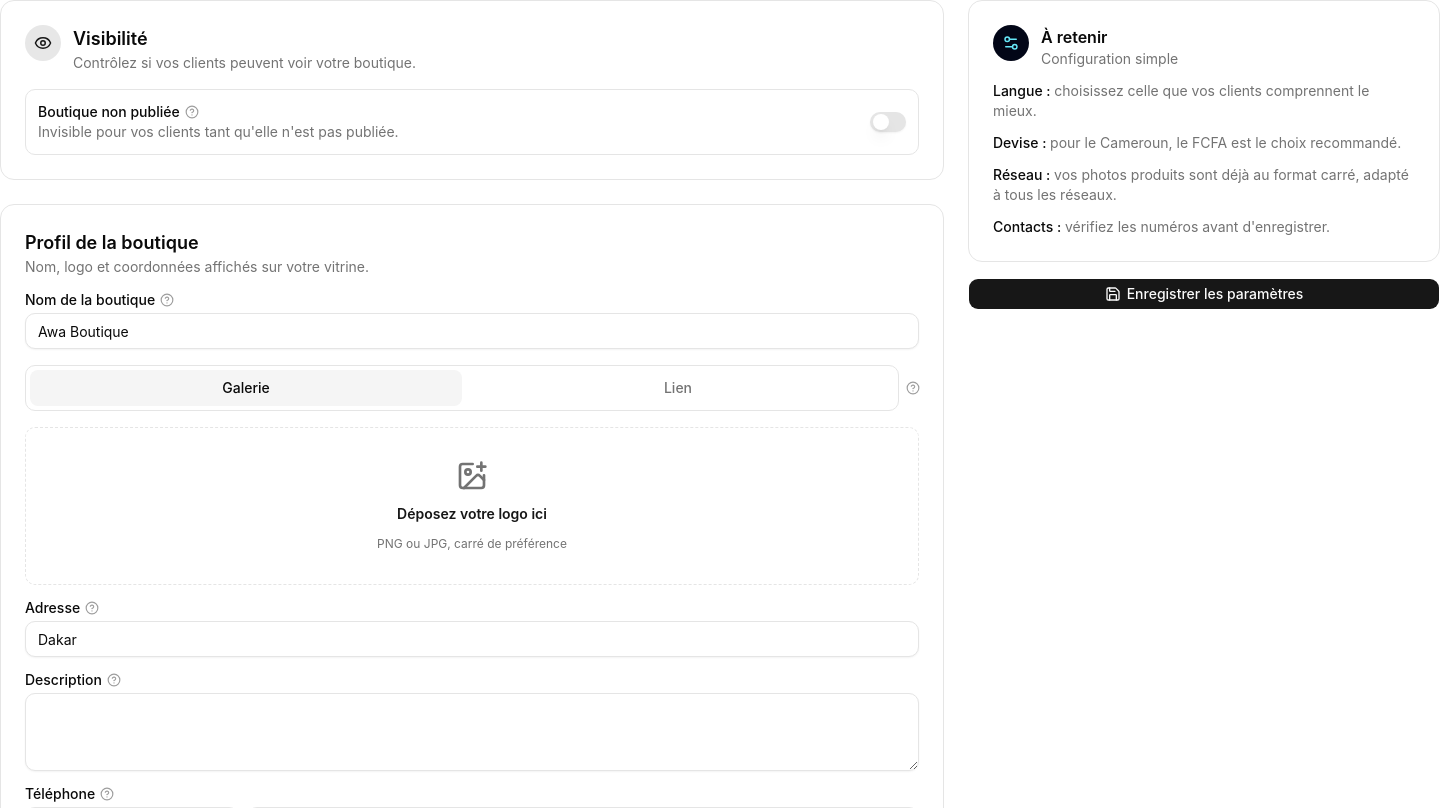
Test: ShopSettingsForm › still confirms the save when logging the activity fails — the main write already succeeded
This screenshot has width=1452, height=808.
Expected: the field labelled "Nom de la boutique" holds "Awa Boutique", [25,313,919,349]
Click the button "Enregistrer les paramètres": [1204, 294] box [968,278,1440,310]
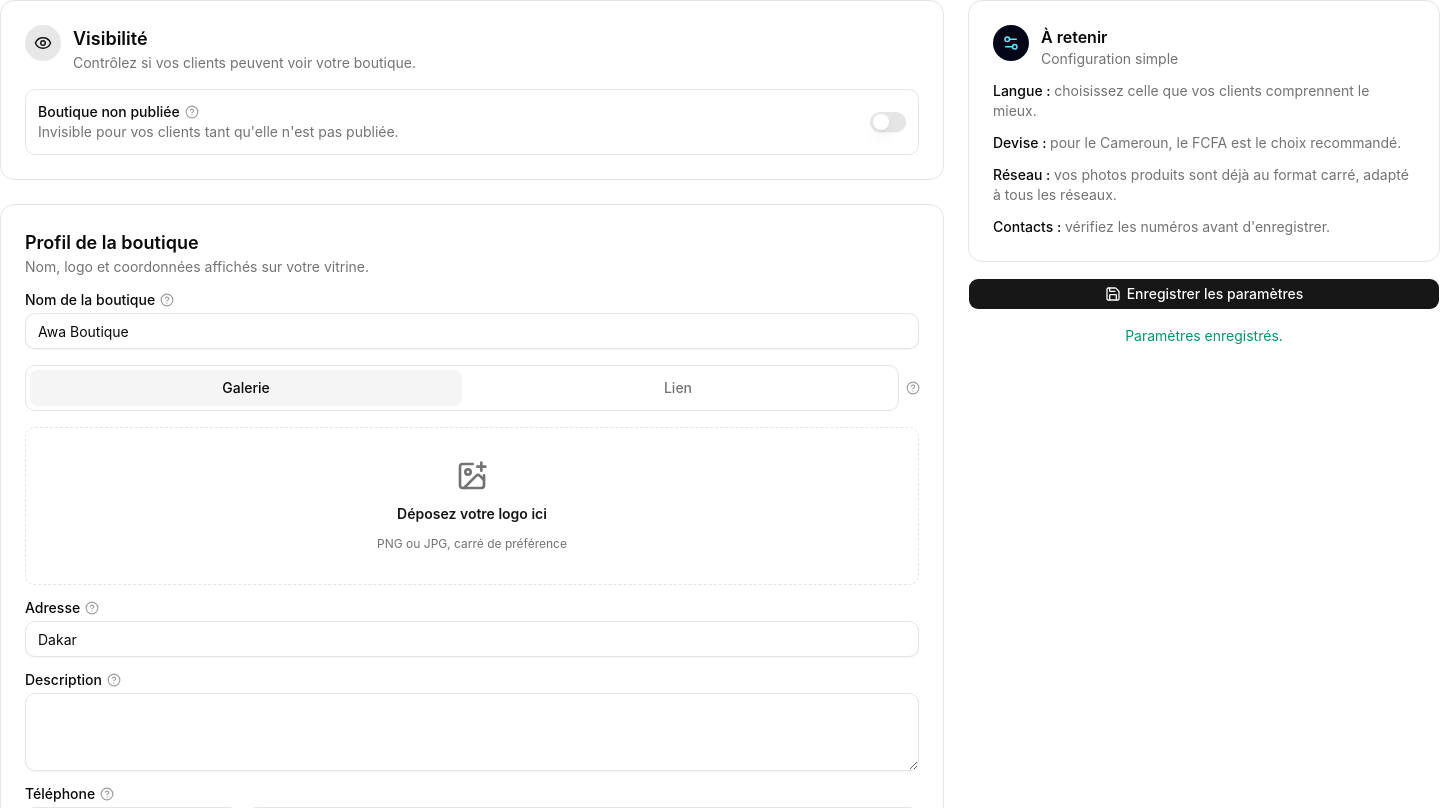
Expected: the text "Paramètres enregistrés." is shown, [1125,327,1283,344]
